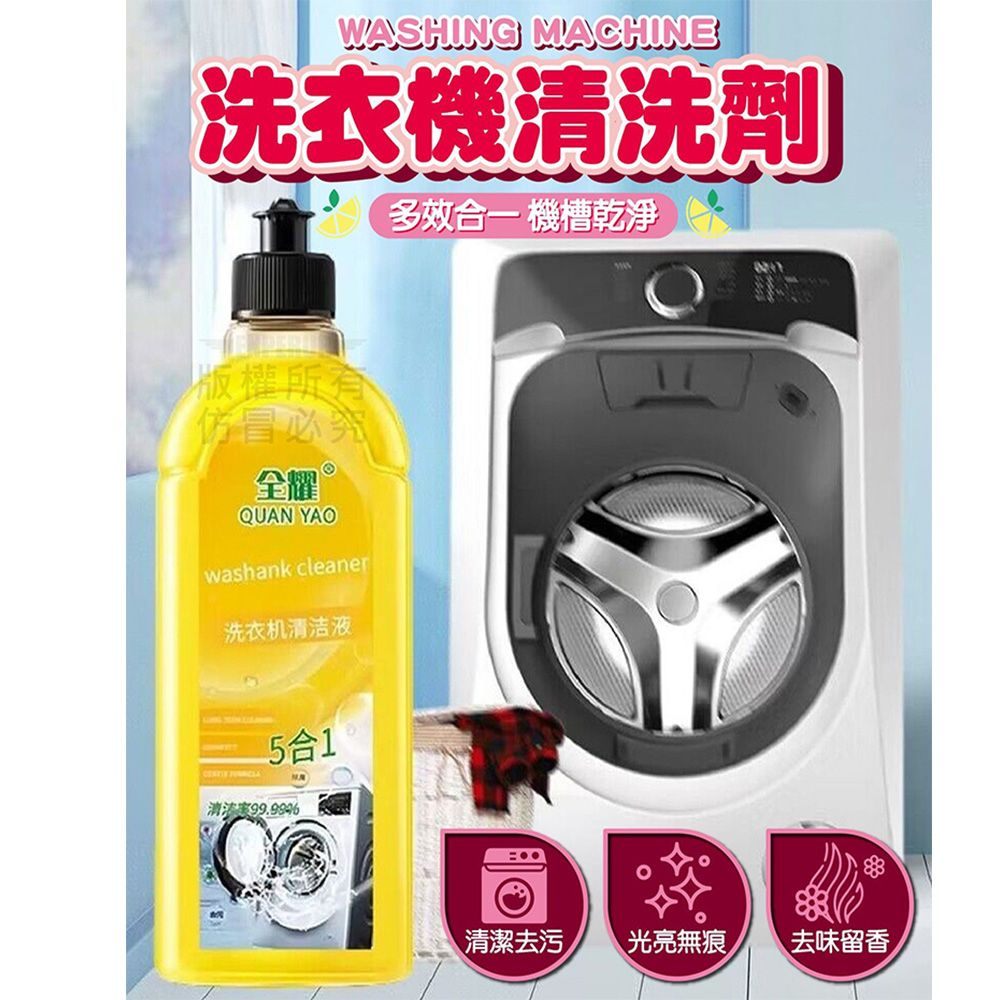cleaner: (148, 196, 422, 991)
